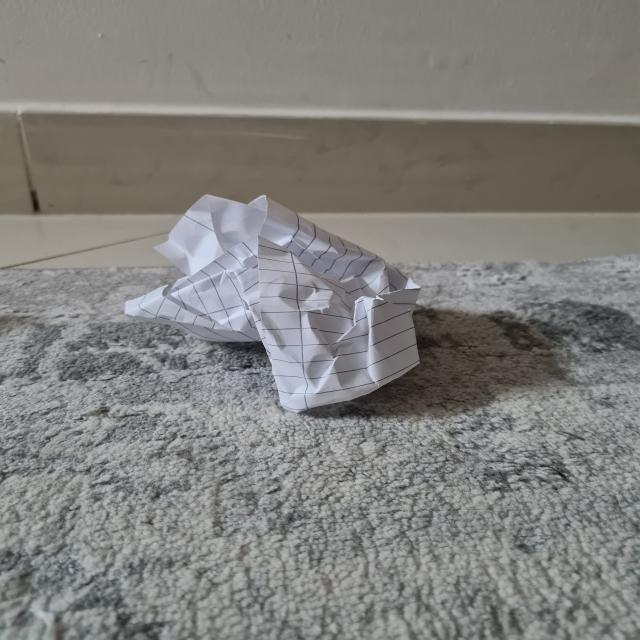Paper: (111, 200, 428, 413)
